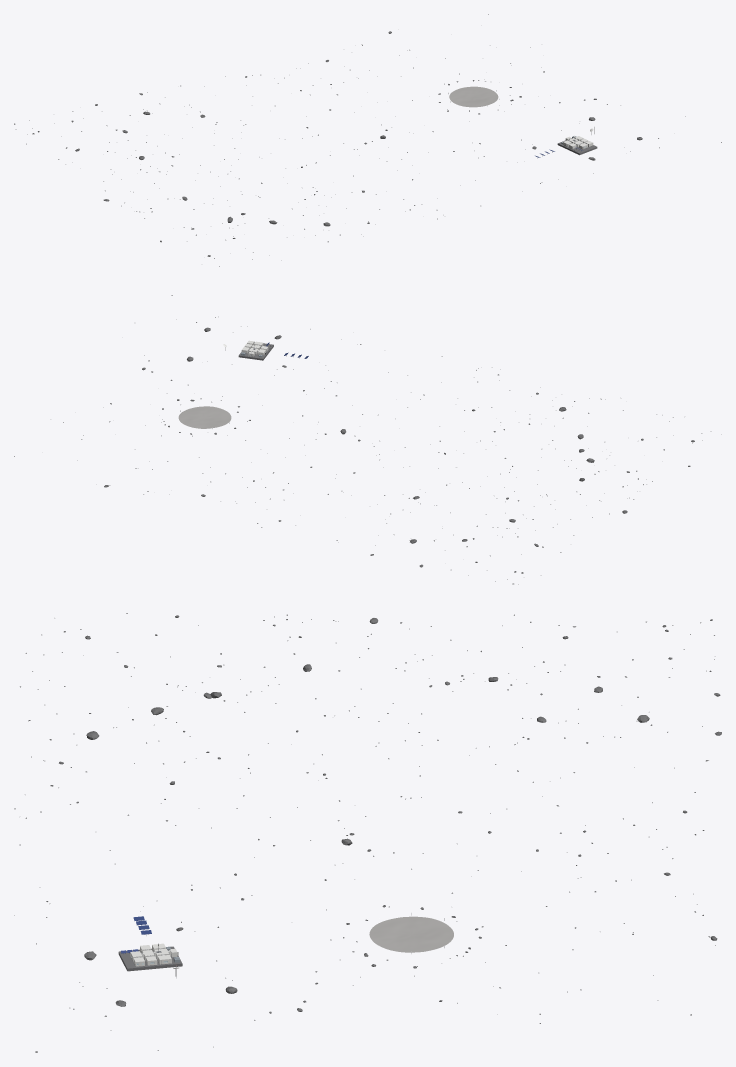
File: lunar_base.glb
3 renders of one model, top to bottom at view 1: azimuth 30°, elevation 25°; view 2: azimuth 150°, elevation 25°; view 3: azimuth 270°, elevation 25°, orthographic. The views are drawn at different scales.
Parts seen in each view (by area): view 1: LZ_Dust_Disc; view 2: LZ_Dust_Disc; view 3: LZ_Dust_Disc.
Part boxes in pixels (x1,y1,x2,y2): LZ_Dust_Disc: (449, 86, 498, 107); LZ_Dust_Disc: (178, 406, 231, 428); LZ_Dust_Disc: (369, 916, 453, 952).
Size of the model in its own units: 589 by 22.97 by 401.
